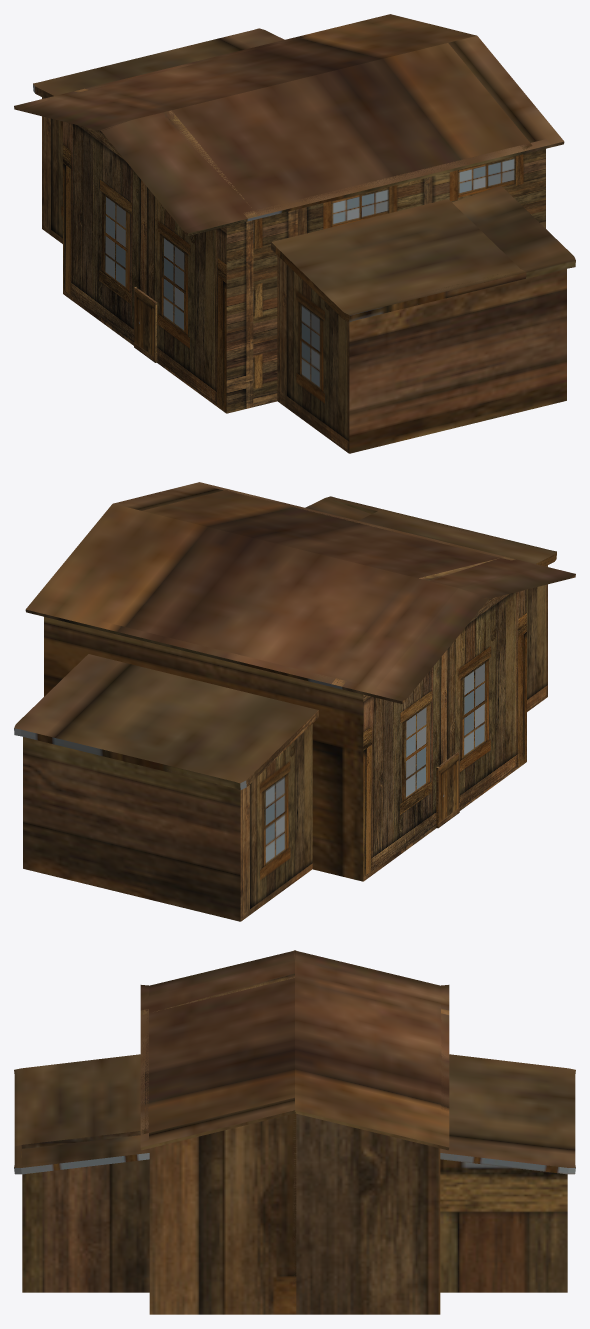
The model's file is House in distance.fbx.
The picture shows the model from 3 angles, top to bottom: view 1: azimuth 30°, elevation 25°; view 2: azimuth 150°, elevation 25°; view 3: azimuth 270°, elevation 25°; orthographic projection. The views are drawn at different scales.
Visible parts, largest first — view 1: Cube.002, Cube; view 2: Cube.002, Cube; view 3: Cube.002.
Boxes of the visible parts, x1,y1,x2,y2 form: Cube.002: [14, 14, 575, 453]; Cube: [134, 287, 157, 362]; Cube.002: [14, 482, 575, 921]; Cube: [436, 752, 459, 828]; Cube.002: [14, 950, 575, 1314].
Size of the model in its own units: 909 by 547 by 1325.
